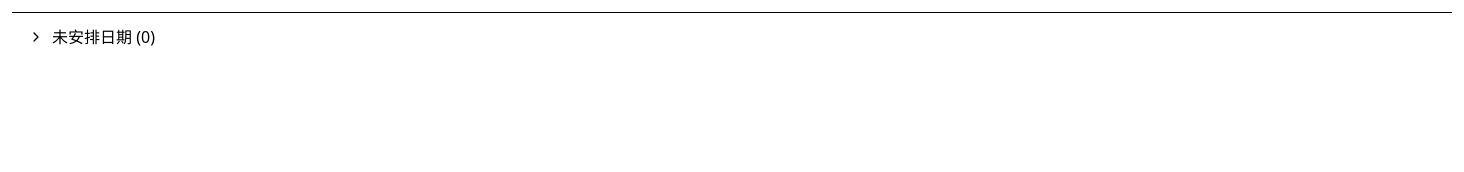
Test: UnscheduledTaskList › interactions › should show empty state message when expanded with no tasks
// Click to expand
Click the button "未安排日期 (0)" at coordinates (96, 37), box 12,13 -> 1452,61
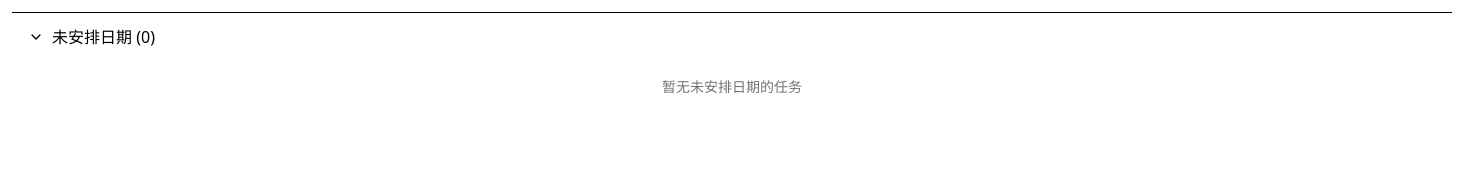
Expected: the text "暂无未安排日期的任务" is shown, 662,77 -> 802,96
